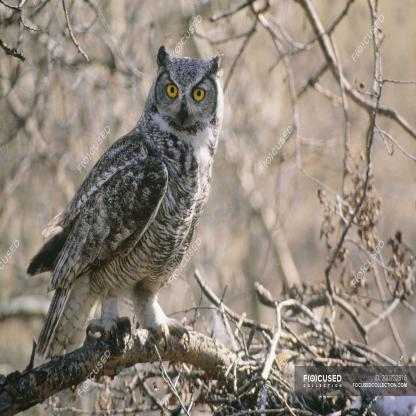owl: (19, 10, 260, 415)
